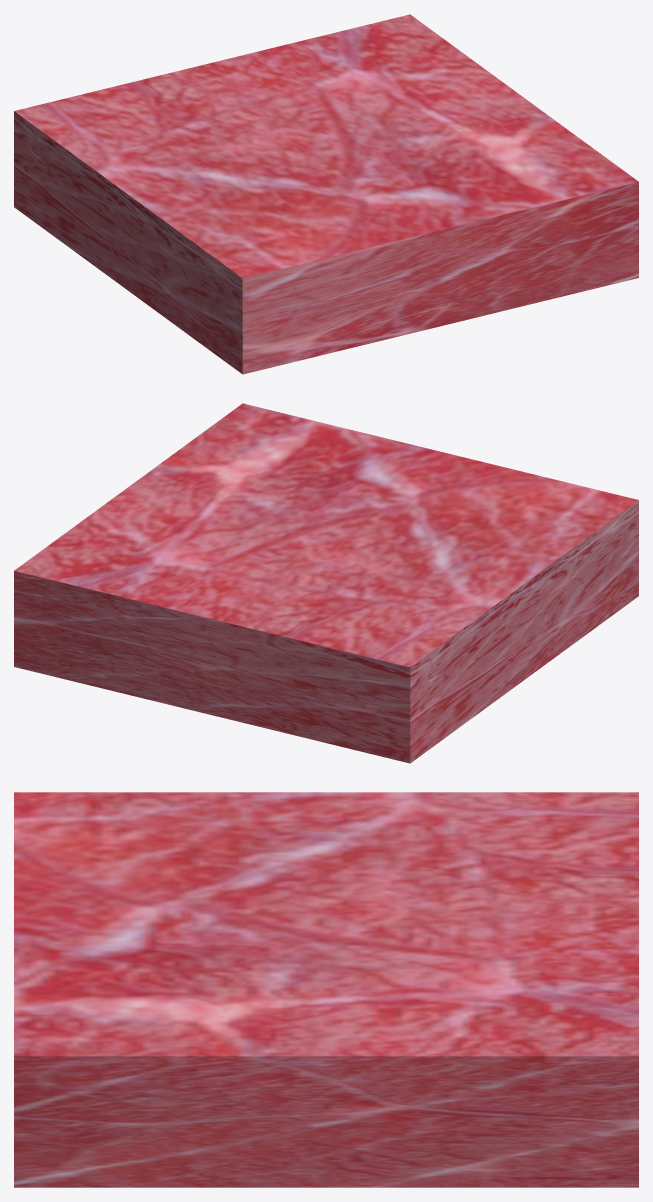
File: MC_pihviTest.fbx
The picture shows the model from 3 angles, top to bottom: view 1: azimuth 30°, elevation 25°; view 2: azimuth 150°, elevation 25°; view 3: azimuth 270°, elevation 25°; orthographic projection. The views are drawn at different scales.
Visible parts, largest first — view 1: Cube, Cube.001; view 2: Cube, Cube.001; view 3: Cube, Cube.001.
Boxes of the visible parts, x1,y1,x2,y2 form: Cube: [14, 14, 638, 326]; Cube.001: [14, 159, 638, 374]; Cube: [14, 403, 638, 715]; Cube.001: [14, 548, 638, 763]; Cube: [14, 792, 638, 1121]; Cube.001: [14, 1122, 638, 1187].
Size of the model in its own units: 200 by 46.35 by 200.
